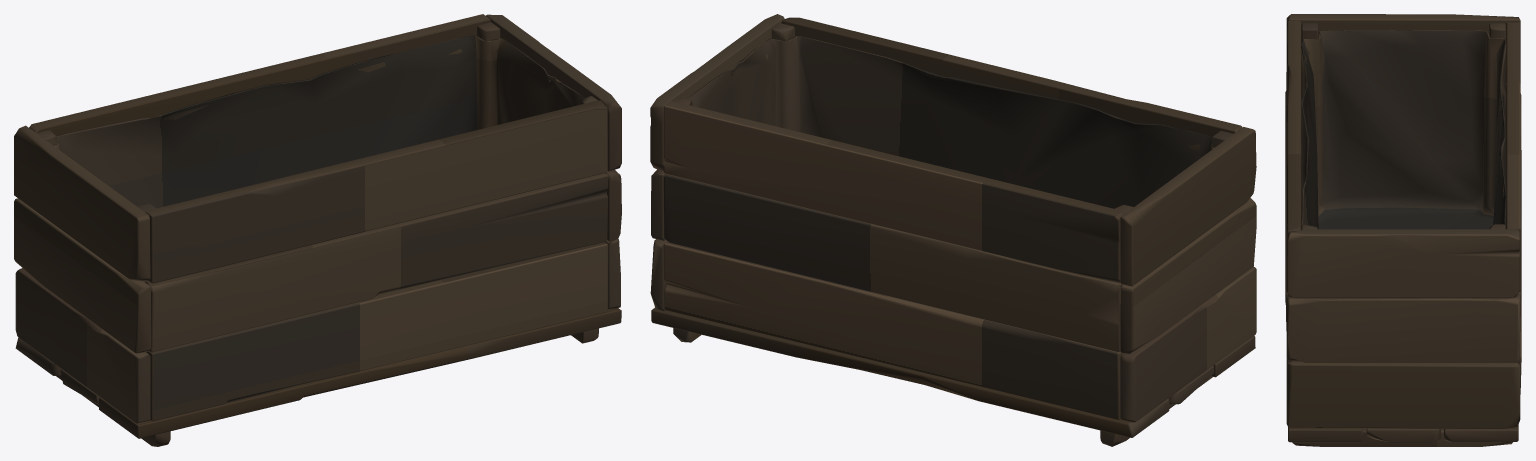
The model's file is ph_planter_1.glb.
3 views of the same model, side by side, from view 1: azimuth 30°, elevation 25°; view 2: azimuth 150°, elevation 25°; view 3: azimuth 270°, elevation 25° (orthographic). The views are drawn at different scales.
Parts seen in each view (by area): view 1: ph_planter_1; view 2: ph_planter_1; view 3: ph_planter_1.
Part boxes in pixels (box(x1,y1,x2,y2)): ph_planter_1: box(14, 14, 621, 446); ph_planter_1: box(650, 14, 1256, 446); ph_planter_1: box(1285, 14, 1521, 446).
Size of the model in its own units: 0.9054 by 0.425 by 0.4097.
Materials: 1 (1 with a texture image).
